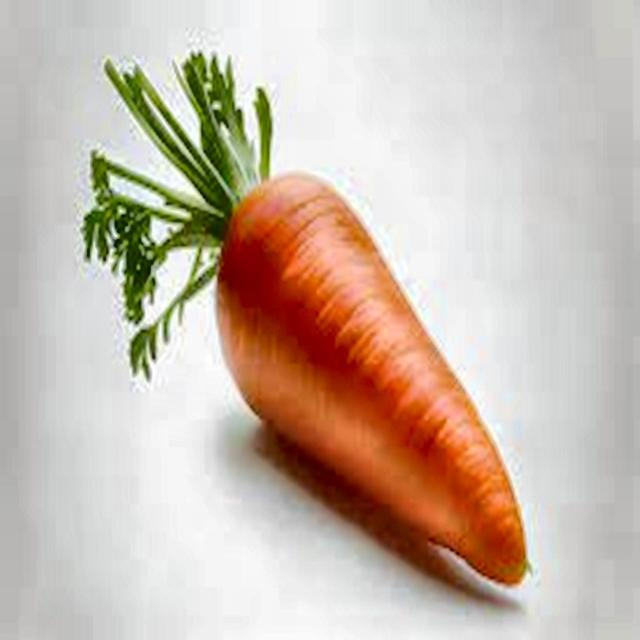carrot: (84, 54, 528, 584)
